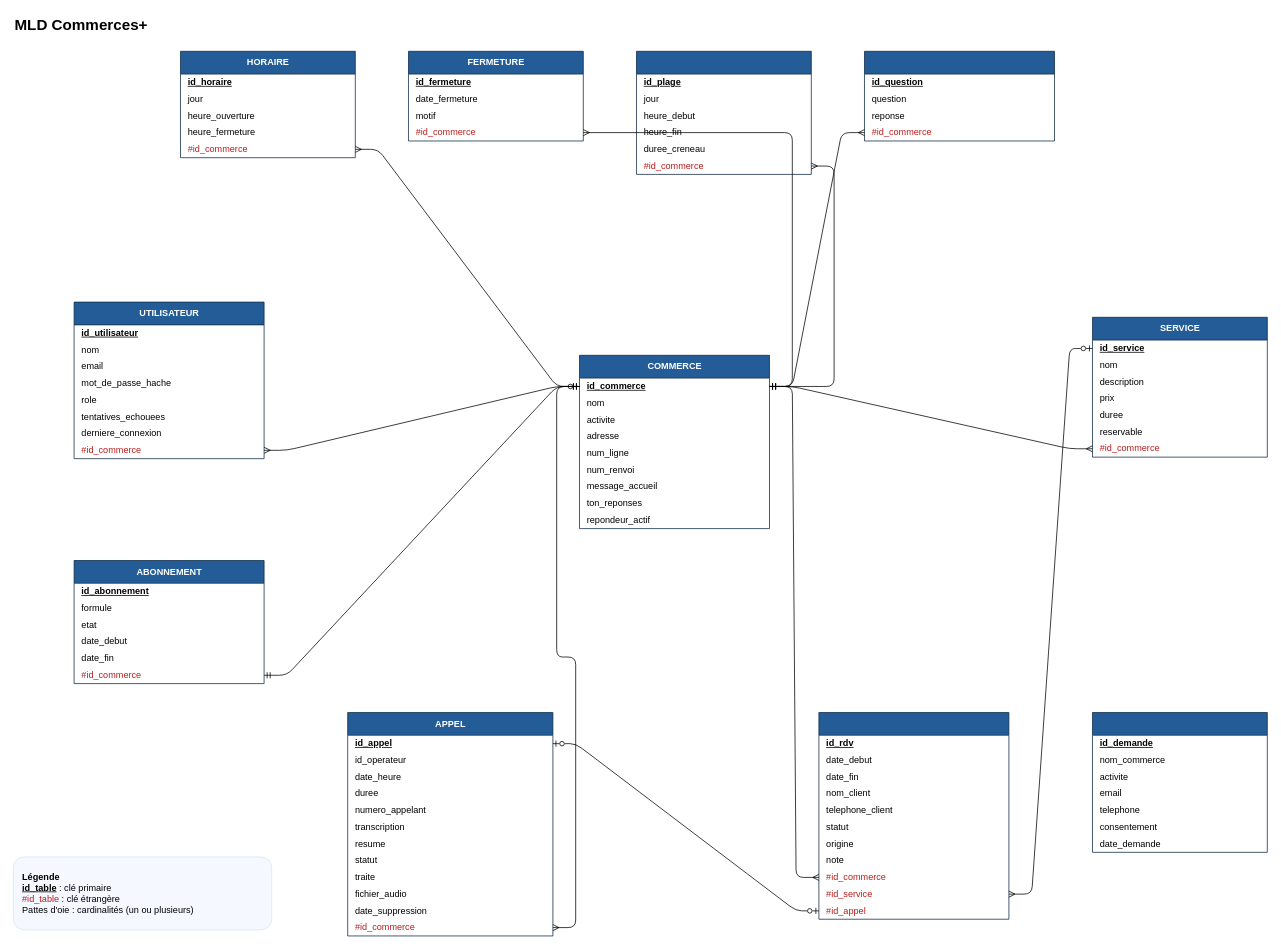
This 1281x949 diagram has some shape labels left out. Each missing label, with the box of its shape:
DEMANDE_DEMO: (1092, 712, 1267, 852)
PLAGE_RDV: (636, 51, 811, 174)
QUESTION_FREQUENTE: (864, 51, 1054, 141)
RENDEZ_VOUS: (818, 712, 1009, 919)
